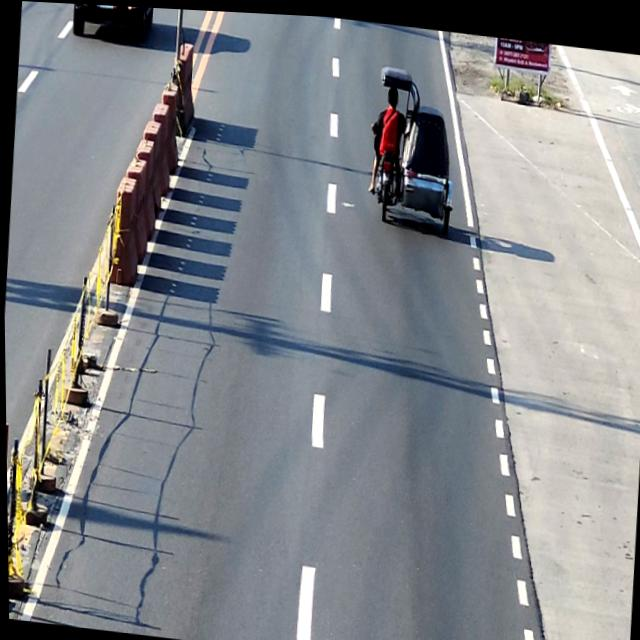Car: (69, 3, 154, 40)
License-Plate: (99, 4, 113, 8)
Tricycle: (365, 59, 461, 233)
